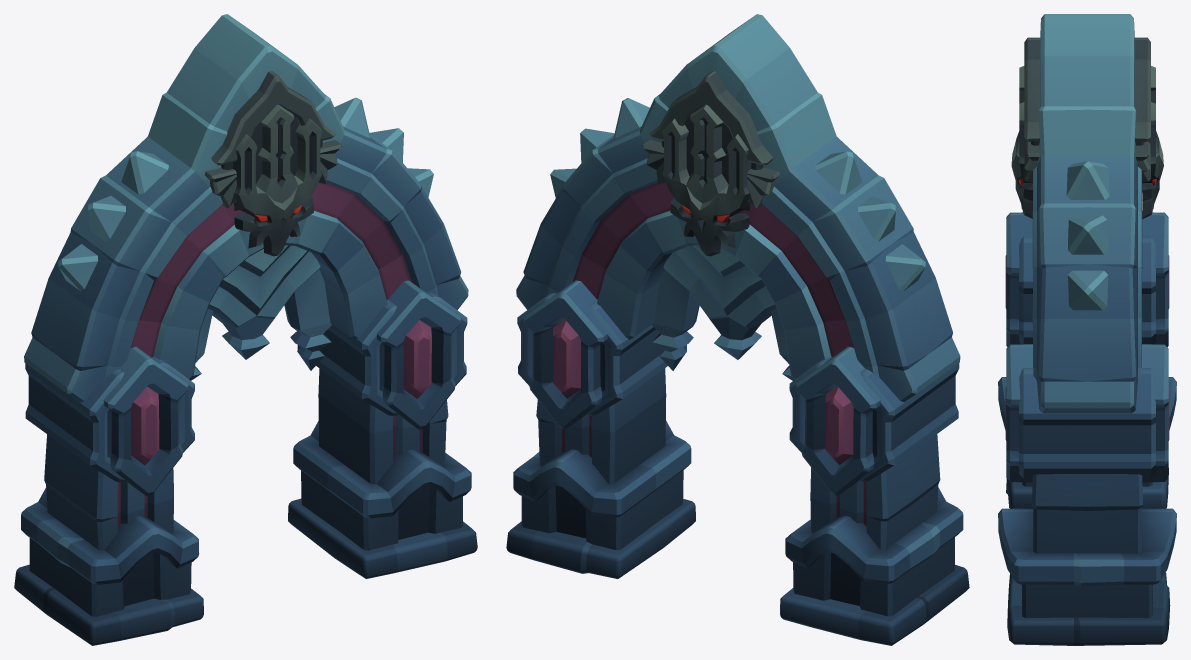
The model's file is archway_large.fbx.
3 views of the same model, side by side, from view 1: azimuth 30°, elevation 25°; view 2: azimuth 150°, elevation 25°; view 3: azimuth 270°, elevation 25° (orthographic).
Visible parts, largest first — view 1: archway_large; view 2: archway_large; view 3: archway_large.
Part boxes in pixels (x1,y1,x2,y2): archway_large: (14, 14, 477, 645); archway_large: (506, 14, 969, 645); archway_large: (998, 14, 1176, 645).
Size of the model in its own units: 810 by 1049 by 315.
